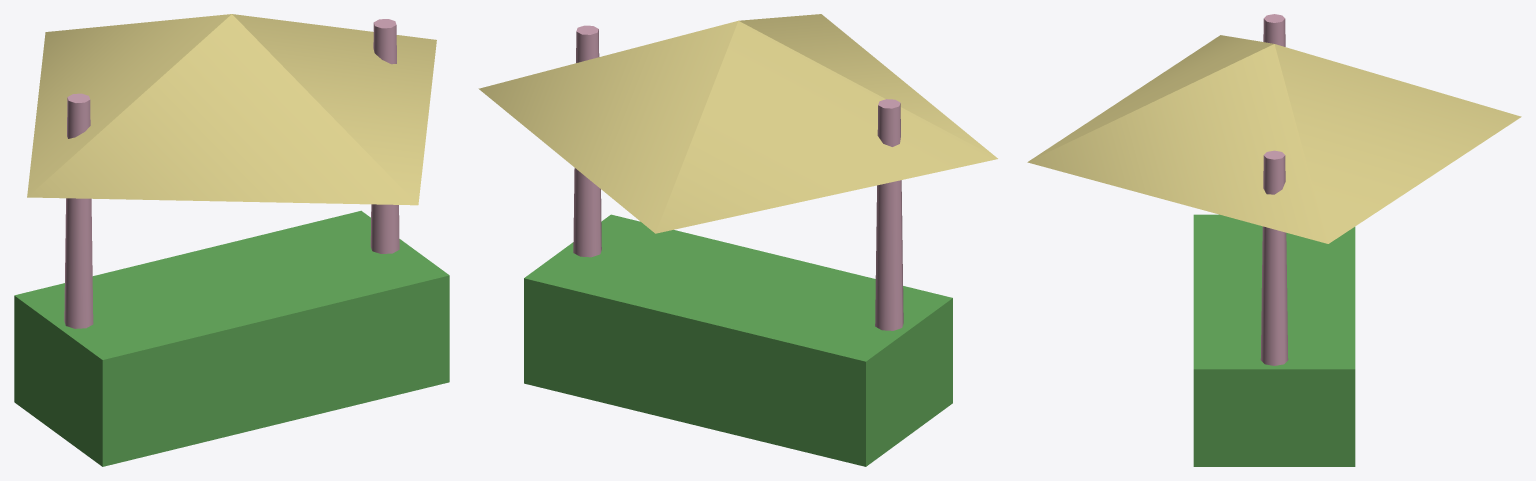
Rendered from market_booth.glb.
3 renders of one model, left to right at view 1: azimuth 30°, elevation 25°; view 2: azimuth 150°, elevation 25°; view 3: azimuth 270°, elevation 25°, orthographic. The views are drawn at different scales.
Visible parts, largest first — view 1: booth_counter, booth_canopy, booth_post_-1, booth_post_1; view 2: booth_counter, booth_canopy, booth_post_-1, booth_post_1; view 3: booth_canopy, booth_counter, booth_post_1, booth_post_-1.
Part boxes in pixels (x1,y1,x2,y2): booth_counter: (14, 210, 449, 466); booth_canopy: (27, 14, 436, 205); booth_post_-1: (64, 93, 93, 328); booth_post_1: (370, 19, 399, 253); booth_counter: (524, 214, 952, 466); booth_canopy: (478, 14, 997, 233); booth_post_-1: (875, 99, 903, 330); booth_post_1: (573, 25, 601, 257); booth_canopy: (1027, 35, 1521, 243); booth_counter: (1193, 214, 1355, 466); booth_post_1: (1260, 150, 1288, 365); booth_post_-1: (1263, 14, 1285, 46).
Size of what is drawn, in the model's own units: 4.59 by 3.54 by 4.59.
